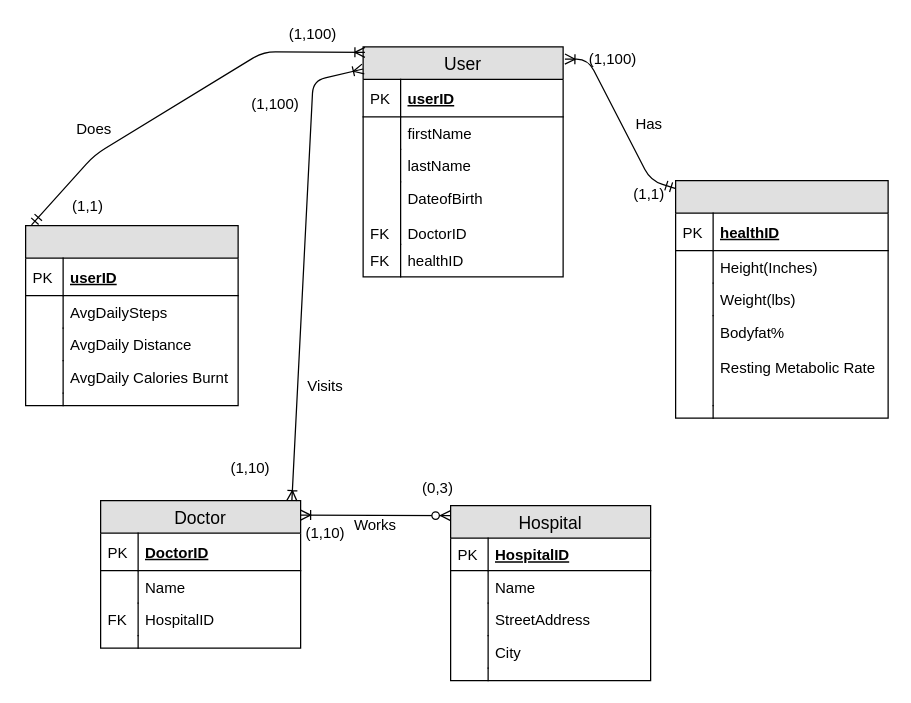
The diagram is 911 pixels wide and 703 high, and some of its shapes have lost their labels. The shapes that lost their labels are listed below. From the top down, each one's box as (x1, y1, x2, y2) in pixels, then its label:
(24, 224, 238, 406): Activity
(674, 179, 888, 418): HealthInfo
